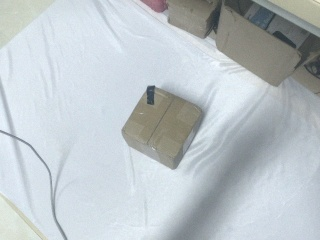box: (216, 1, 319, 87), (122, 85, 202, 170), (167, 1, 222, 39)
